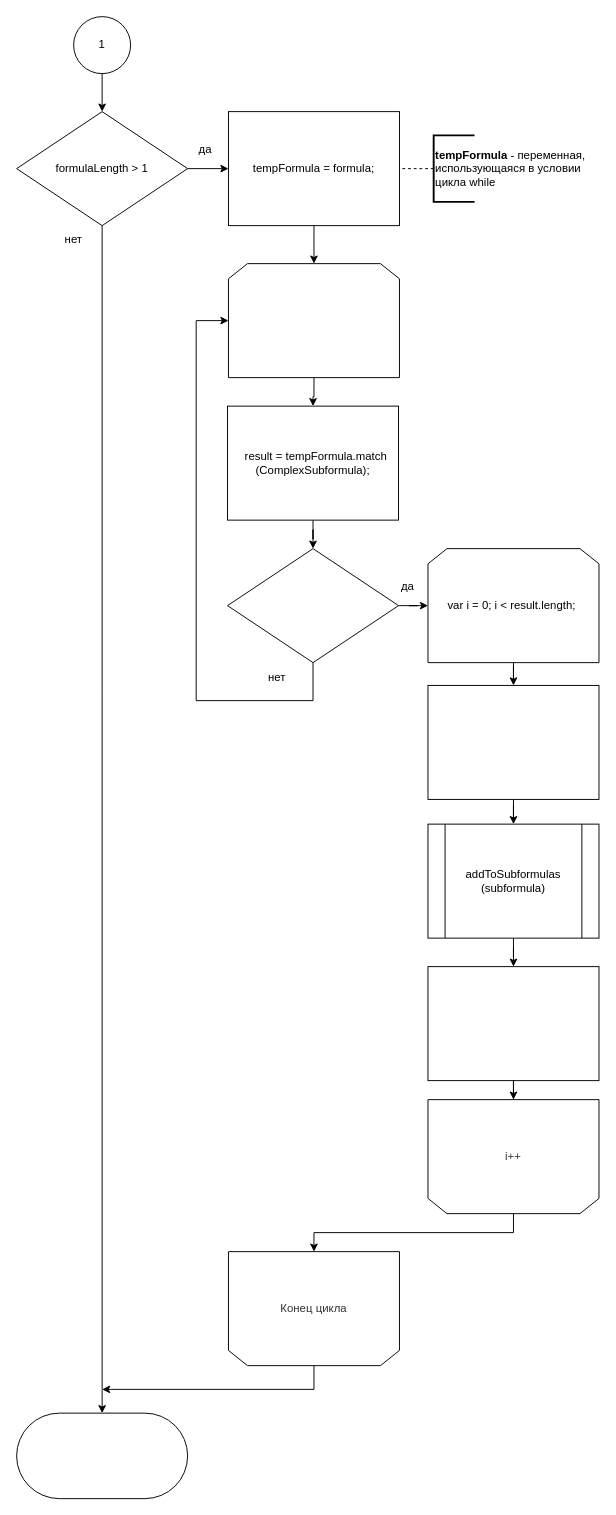
The diagram is 616 pixels wide and 1515 high, and some of its shapes have lost their labels. The centre of each missing label's shape, as x and y in pixels:
"result != null" goes at pixel 313 605.
"tempFormula !== replacementSymbol" goes at pixel 313 320.
"tempFormula = tempFormula.replace (subformula, replacementSymbol);" goes at pixel 513 1023.
"var subformula = result[i];" goes at pixel 513 741.
"Конец" goes at pixel 102 1455.
